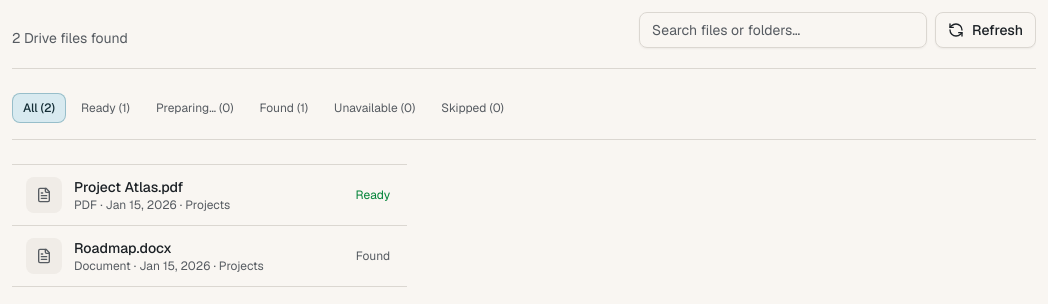
Test: Files browser › renders real file metadata and keeps search and status filters functional
Expected: the text "Project Atlas.pdf" is shown, [74,178,183,196]
Expected: the text "Roadmap.docx" is shown, [74,239,172,257]
Click the button "Ready (1)".
click(105, 108)  # box [70,93,141,123]
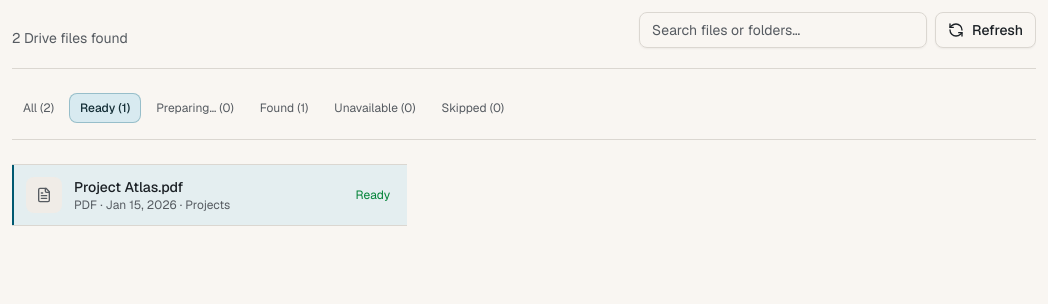
Expected: the text "Project Atlas.pdf" is shown, [74,178,183,196]
Result: the button "Roadmap.docx" is gone
Click the button "All (2)".
click(38, 108)  # box [12,93,65,123]
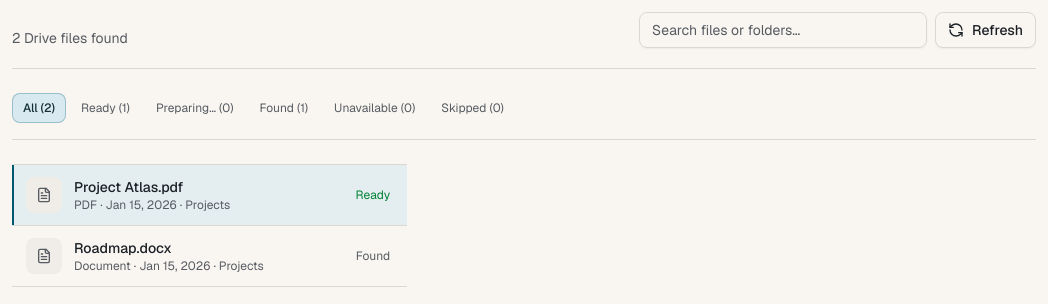
Type "Roadmap" into the field labelled "Search files".
click(783, 30); type("Roadmap")  # box [639,12,927,48]
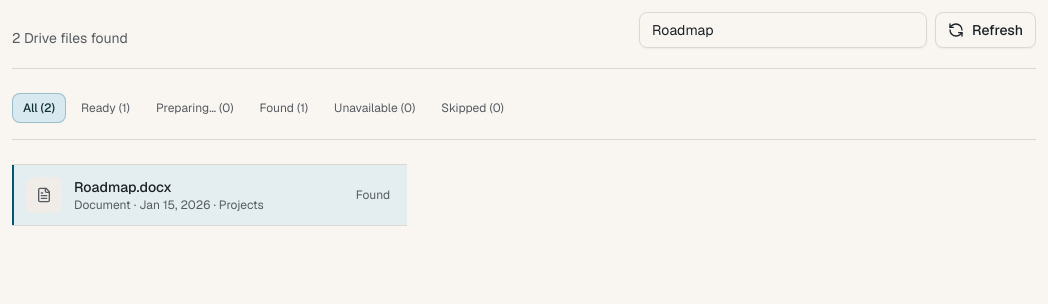
Result: the text "Roadmap.docx" is shown at [74,178,172,196]
Result: the button "Project Atlas.pdf" is gone
